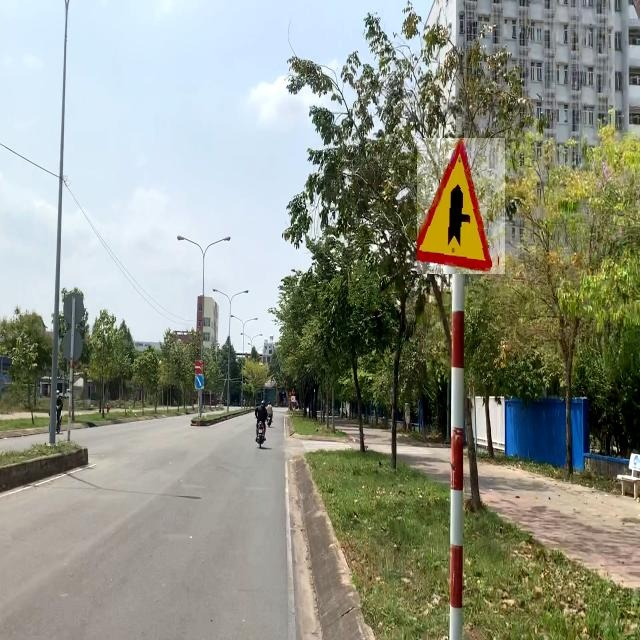bien_hieu_lenh: (418, 138, 506, 274), (195, 374, 204, 389), (196, 360, 203, 374), (291, 387, 296, 394), (291, 396, 296, 402)
